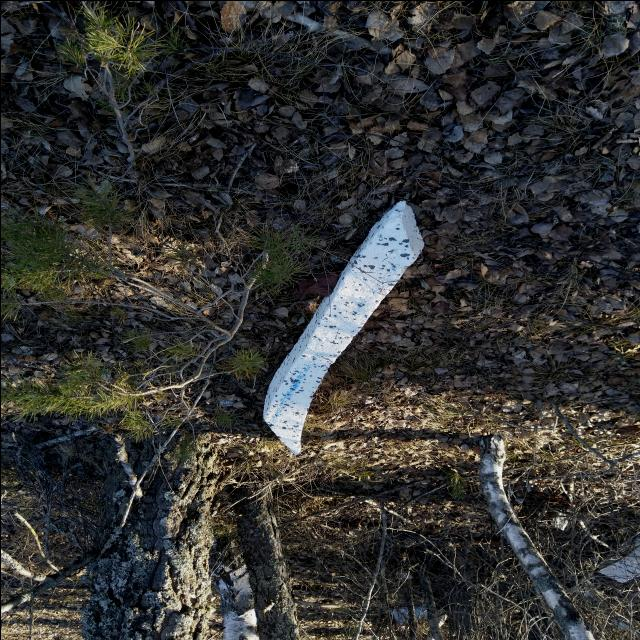Styrofoam piece: (262, 200, 423, 454)
Unlabeled litter: (598, 533, 640, 582)
